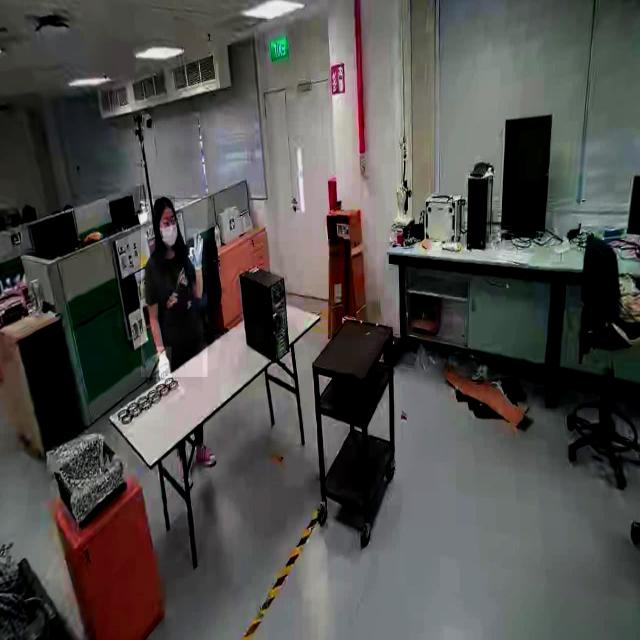face_mask: (156, 210, 180, 250)
hand_glove: (188, 228, 205, 274), (156, 346, 172, 386)
head_nohelmet: (153, 196, 175, 210)
person: (140, 199, 208, 378)
shoes: (196, 442, 217, 471)
